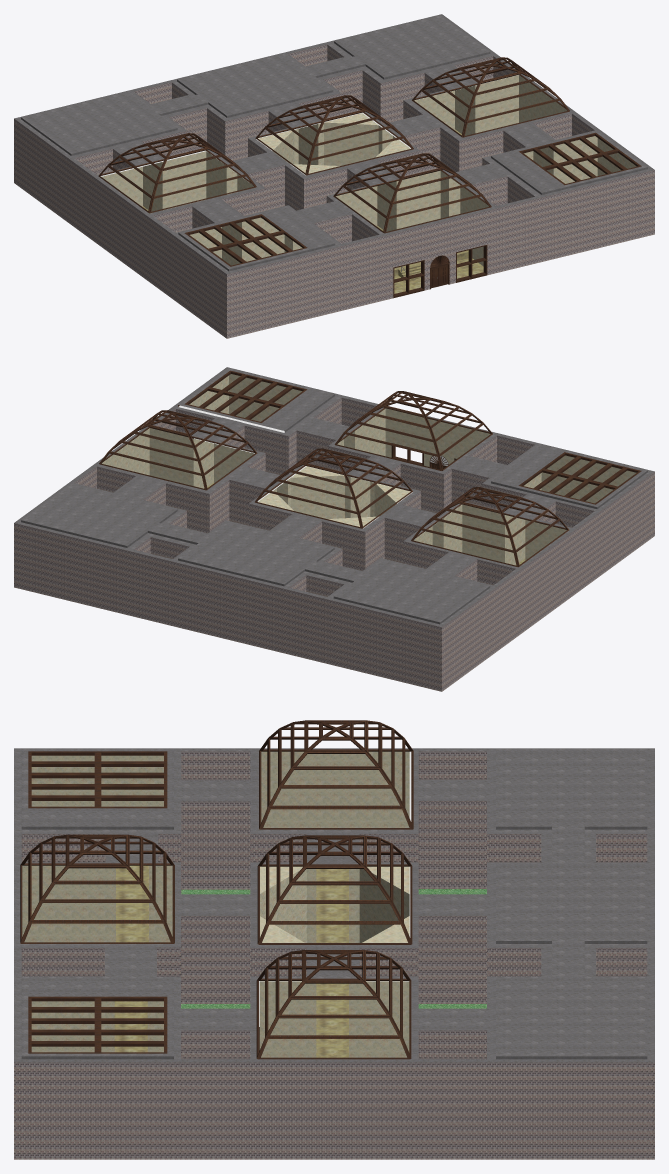
Rendered from room.glb.
The picture shows the model from 3 angles, top to bottom: view 1: azimuth 30°, elevation 25°; view 2: azimuth 150°, elevation 25°; view 3: azimuth 270°, elevation 25°; orthographic projection. The views are drawn at different scales.
Bounding box in the file's own units: 67.73 × 16 × 58.37.
9 materials, 7 textured.
